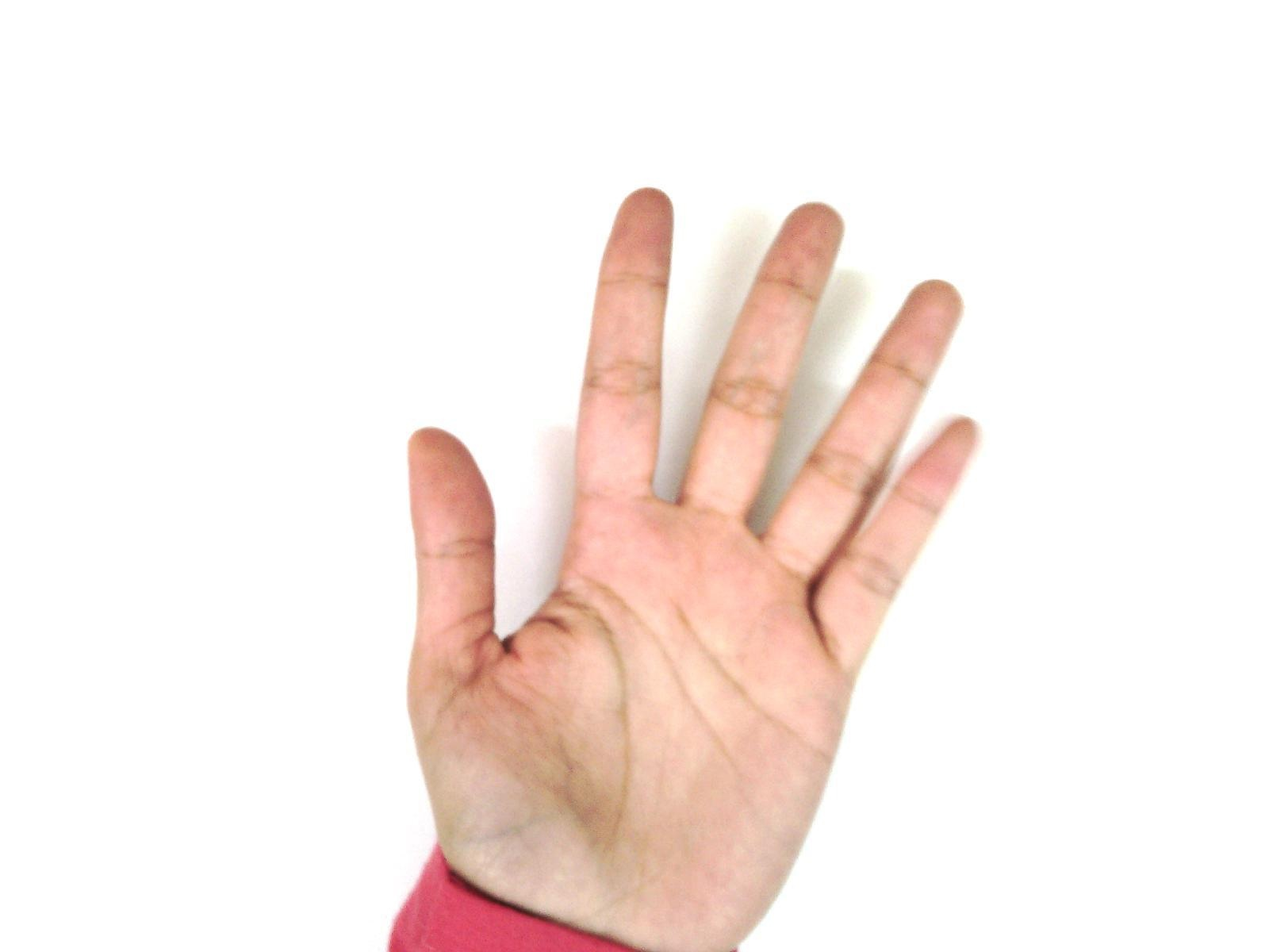open_palm: (401, 186, 984, 950)
